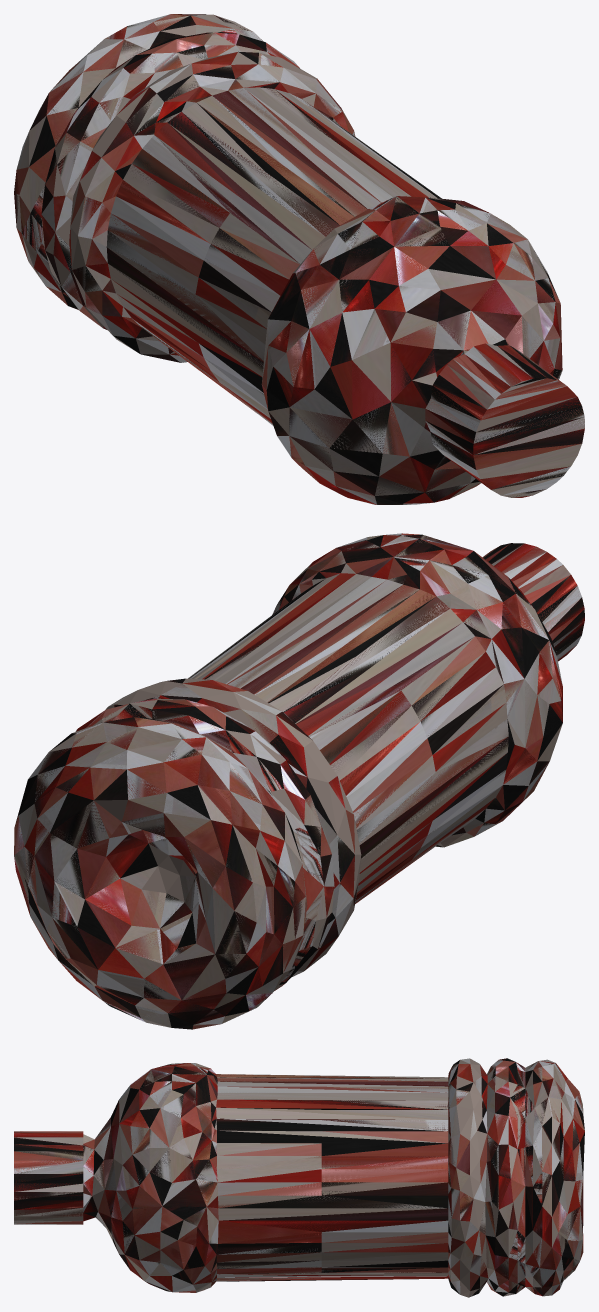
File: model_align.obj
3 views of the same model, one above another, from view 1: azimuth 30°, elevation 25°; view 2: azimuth 150°, elevation 25°; view 3: azimuth 270°, elevation 25° (orthographic). The views are drawn at different scales.
Size of the model in its own units: 0.0531 by 0.0529 by 0.1267.
